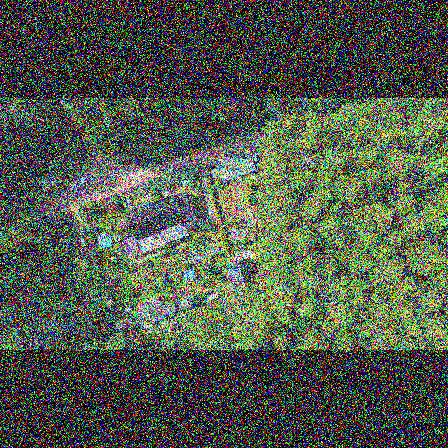Dead: (294, 148, 322, 172)
